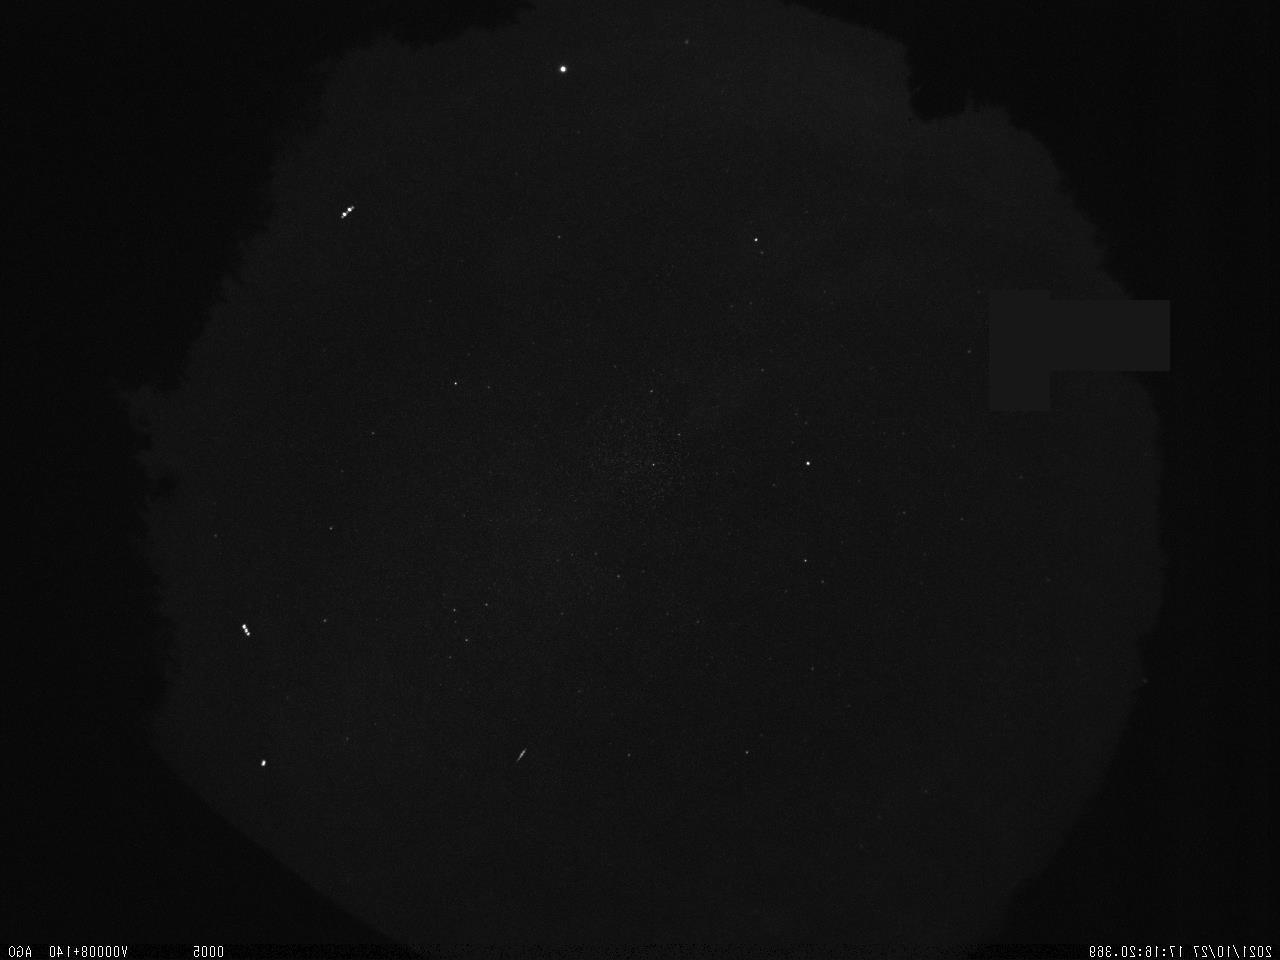meteor: (501, 738, 538, 774)
